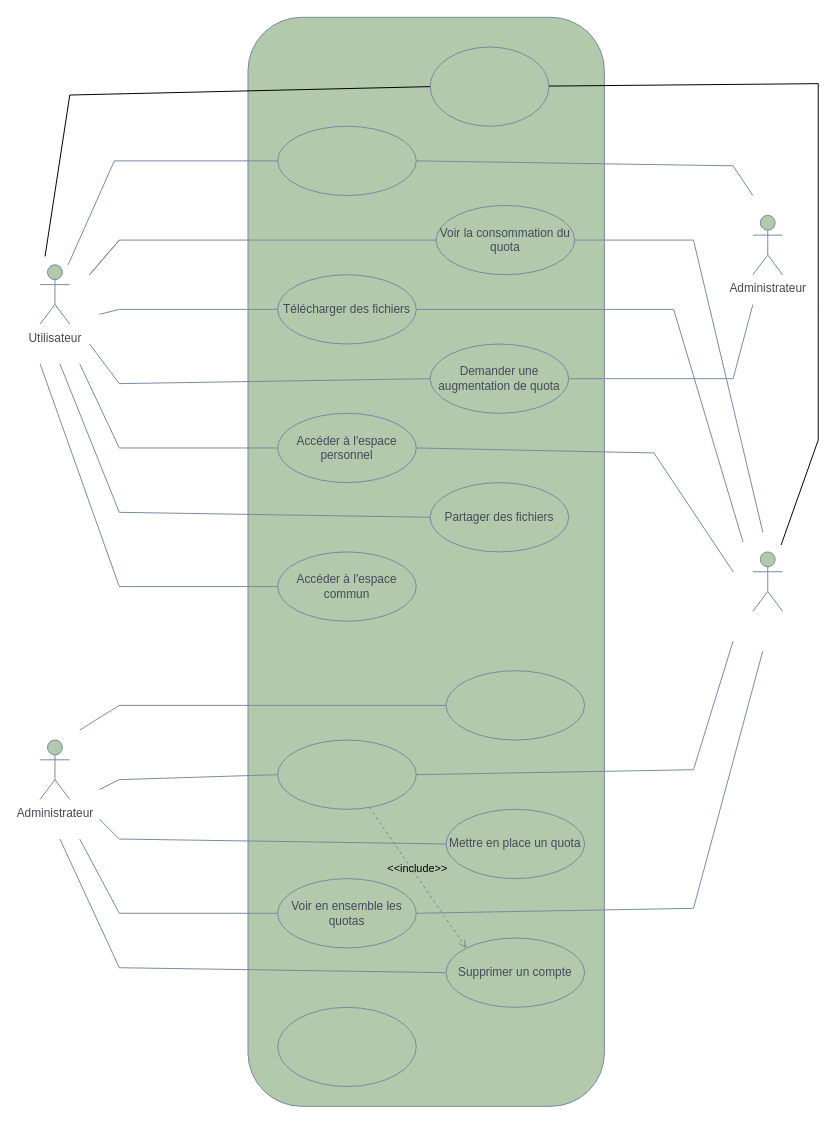
Image size: 837x1124. Some labels were removed from this diagram. Here are the shapes that lost their labels. From the top down, the centre of each, then its label:
[489,86]: S'authentifier sur le serveur
[346,160]: Demander une installation d'aplication
[767,581]: Serveur
[515,705]: Installer des applications
[346,774]: Vérifier la validité d'un compte
[346,1046]: Approuver ou non les demandes d'augmentation
